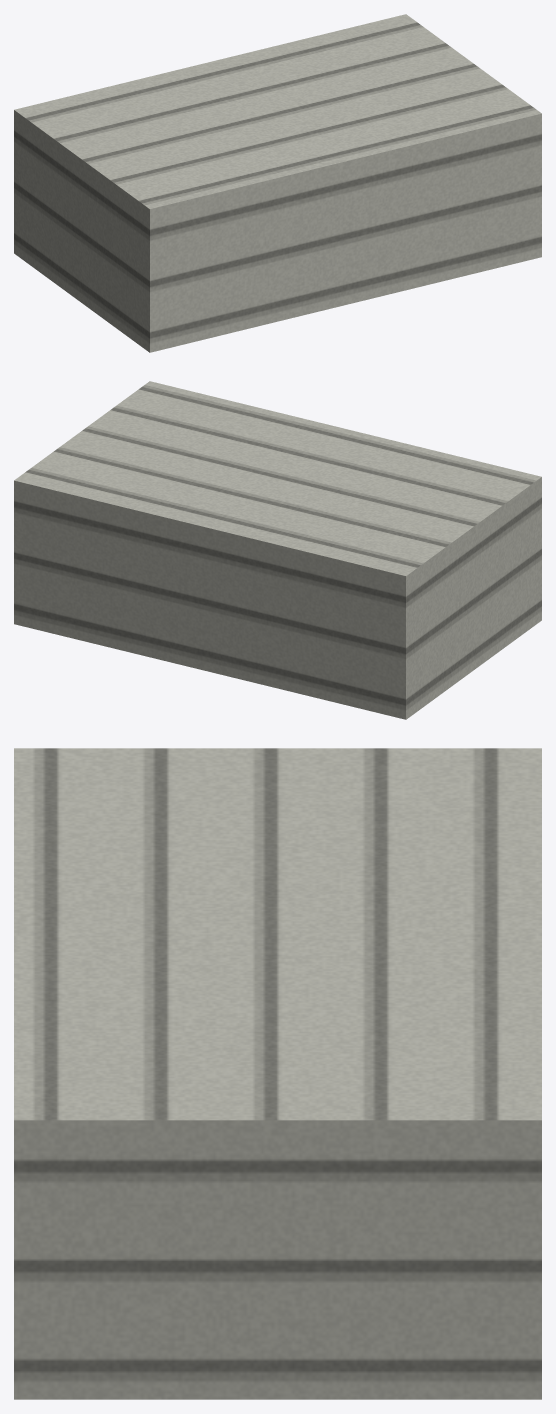
The model's file is griddle_flattop.glb.
The picture shows the model from 3 angles, top to bottom: view 1: azimuth 30°, elevation 25°; view 2: azimuth 150°, elevation 25°; view 3: azimuth 270°, elevation 25°; orthographic projection. The views are drawn at different scales.
Parts seen in each view (by area): view 1: griddle_flattop-col; view 2: griddle_flattop-col; view 3: griddle_flattop-col.
Boxes of the visible parts, x1=… form: griddle_flattop-col: x1=14, y1=14, x2=541, y2=352; griddle_flattop-col: x1=14, y1=381, x2=541, y2=719; griddle_flattop-col: x1=14, y1=748, x2=541, y2=1399.
Bounding box in the file's own units: 1 × 0.35 × 0.6.
1 material, 1 textured.
